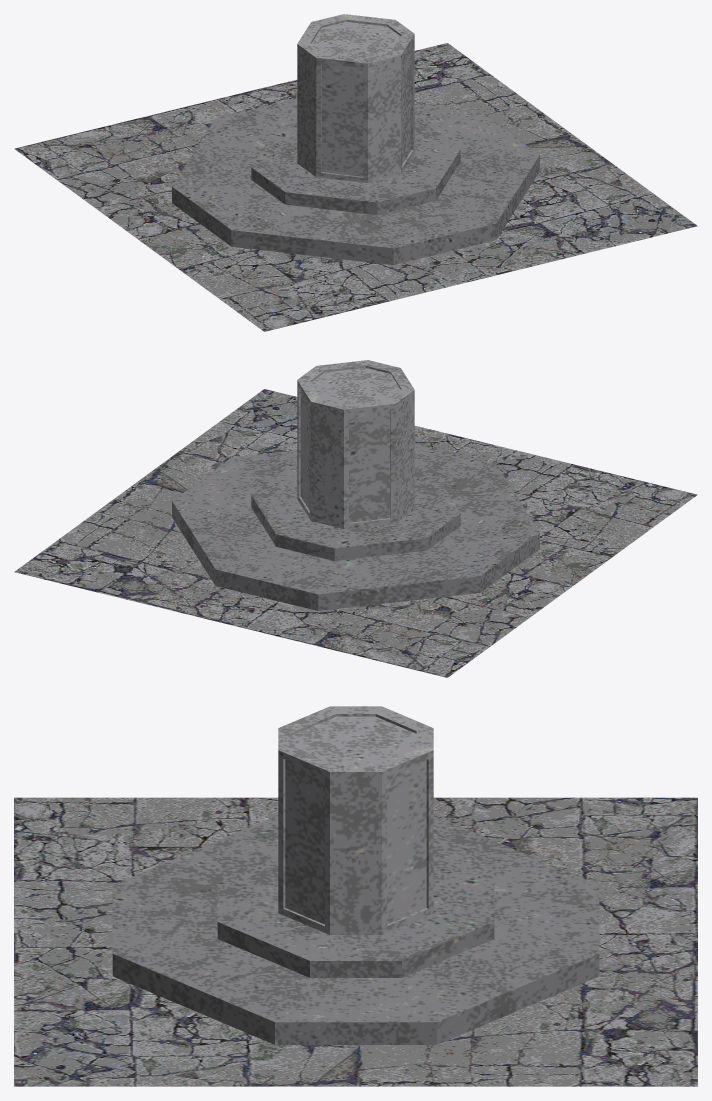
File: ground_stone_column_in_middle.glb
3 renders of one model, top to bottom at view 1: azimuth 30°, elevation 25°; view 2: azimuth 150°, elevation 25°; view 3: azimuth 270°, elevation 25°, orthographic. The views are drawn at different scales.
Parts seen in each view (by area): view 1: Altar; view 2: Altar; view 3: Altar.
Part boxes in pixels (<box>): Altar: <box>14,14,697,331</box>; Altar: <box>14,360,697,677</box>; Altar: <box>14,706,697,1086</box>.
Size of the model in its own units: 4 by 1.31 by 4.
Materials: 3 (3 with a texture image).
